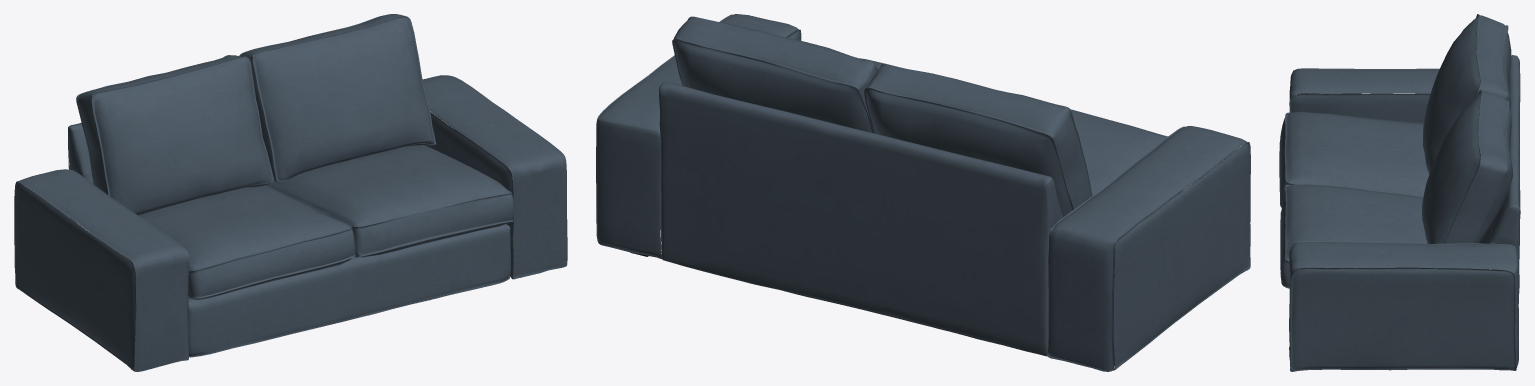
Rendered from cover-gunnared-niebieski.glb.
The picture shows the model from 3 angles, left to right: view 1: azimuth 30°, elevation 25°; view 2: azimuth 150°, elevation 25°; view 3: azimuth 270°, elevation 25°; orthographic projection. The views are drawn at different scales.
Visible parts, largest first — view 1: Mesh_0; view 2: Mesh_0; view 3: Mesh_0.
Boxes of the visible parts, x1,y1,x2,y2 form: Mesh_0: (14,14,567,371); Mesh_0: (596,14,1250,371); Mesh_0: (1279,14,1520,371).
Bounding box in the file's own units: 1.9 × 0.8299 × 0.9501.
2 materials, 2 textured.
